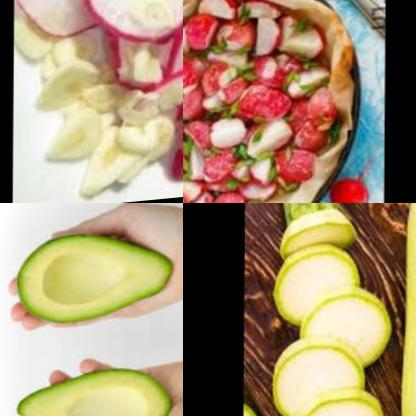avocado: (8, 226, 183, 330), (2, 362, 173, 416)
garlic: (14, 30, 179, 203)
rediska: (183, 0, 335, 93), (15, 0, 166, 53), (245, 119, 295, 167), (280, 63, 338, 104), (183, 174, 257, 203), (202, 118, 248, 156), (229, 162, 276, 186), (327, 177, 370, 203)
vegetable marrow: (263, 235, 367, 351), (246, 324, 368, 416), (287, 285, 393, 372), (269, 203, 357, 265), (274, 370, 391, 416)
